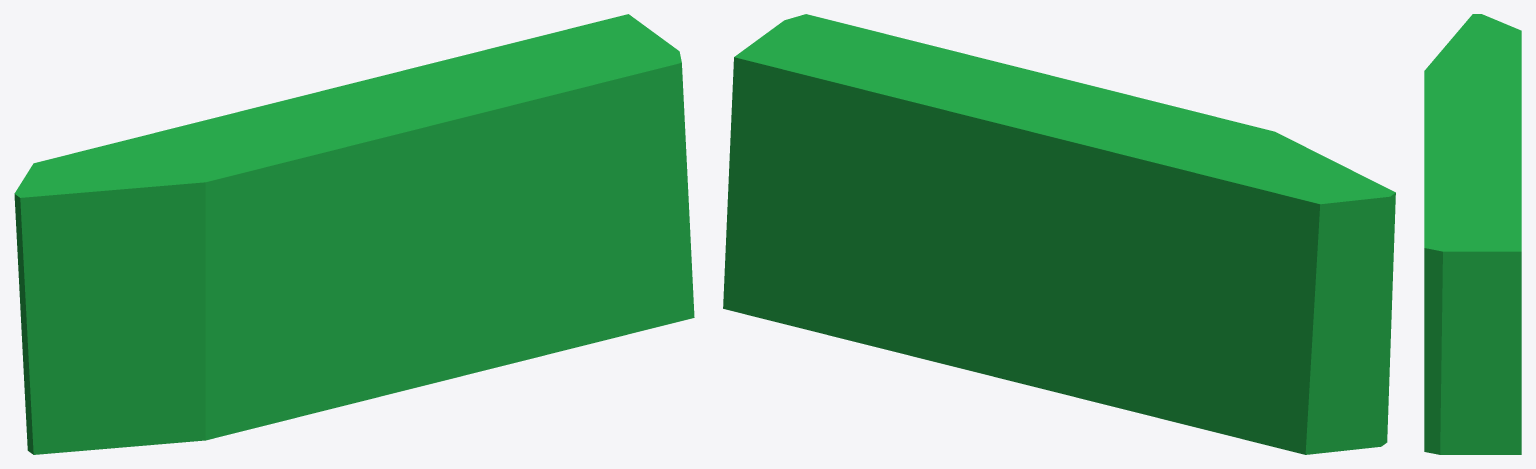
The model's file is HeavyTank.obj.
The picture shows the model from 3 angles, left to right: view 1: azimuth 30°, elevation 25°; view 2: azimuth 150°, elevation 25°; view 3: azimuth 270°, elevation 25°; orthographic projection. The views are drawn at different scales.
Visible parts, largest first — view 1: Object.1; view 2: Object.1; view 3: Object.1.
Boxes of the visible parts, left/top/right/bottom form: Object.1: left=14, top=14, right=694, bottom=454; Object.1: left=723, top=14, right=1395, bottom=454; Object.1: left=1424, top=14, right=1521, bottom=454.
Size of the model in its own units: 8036 by 3096 by 1352.
